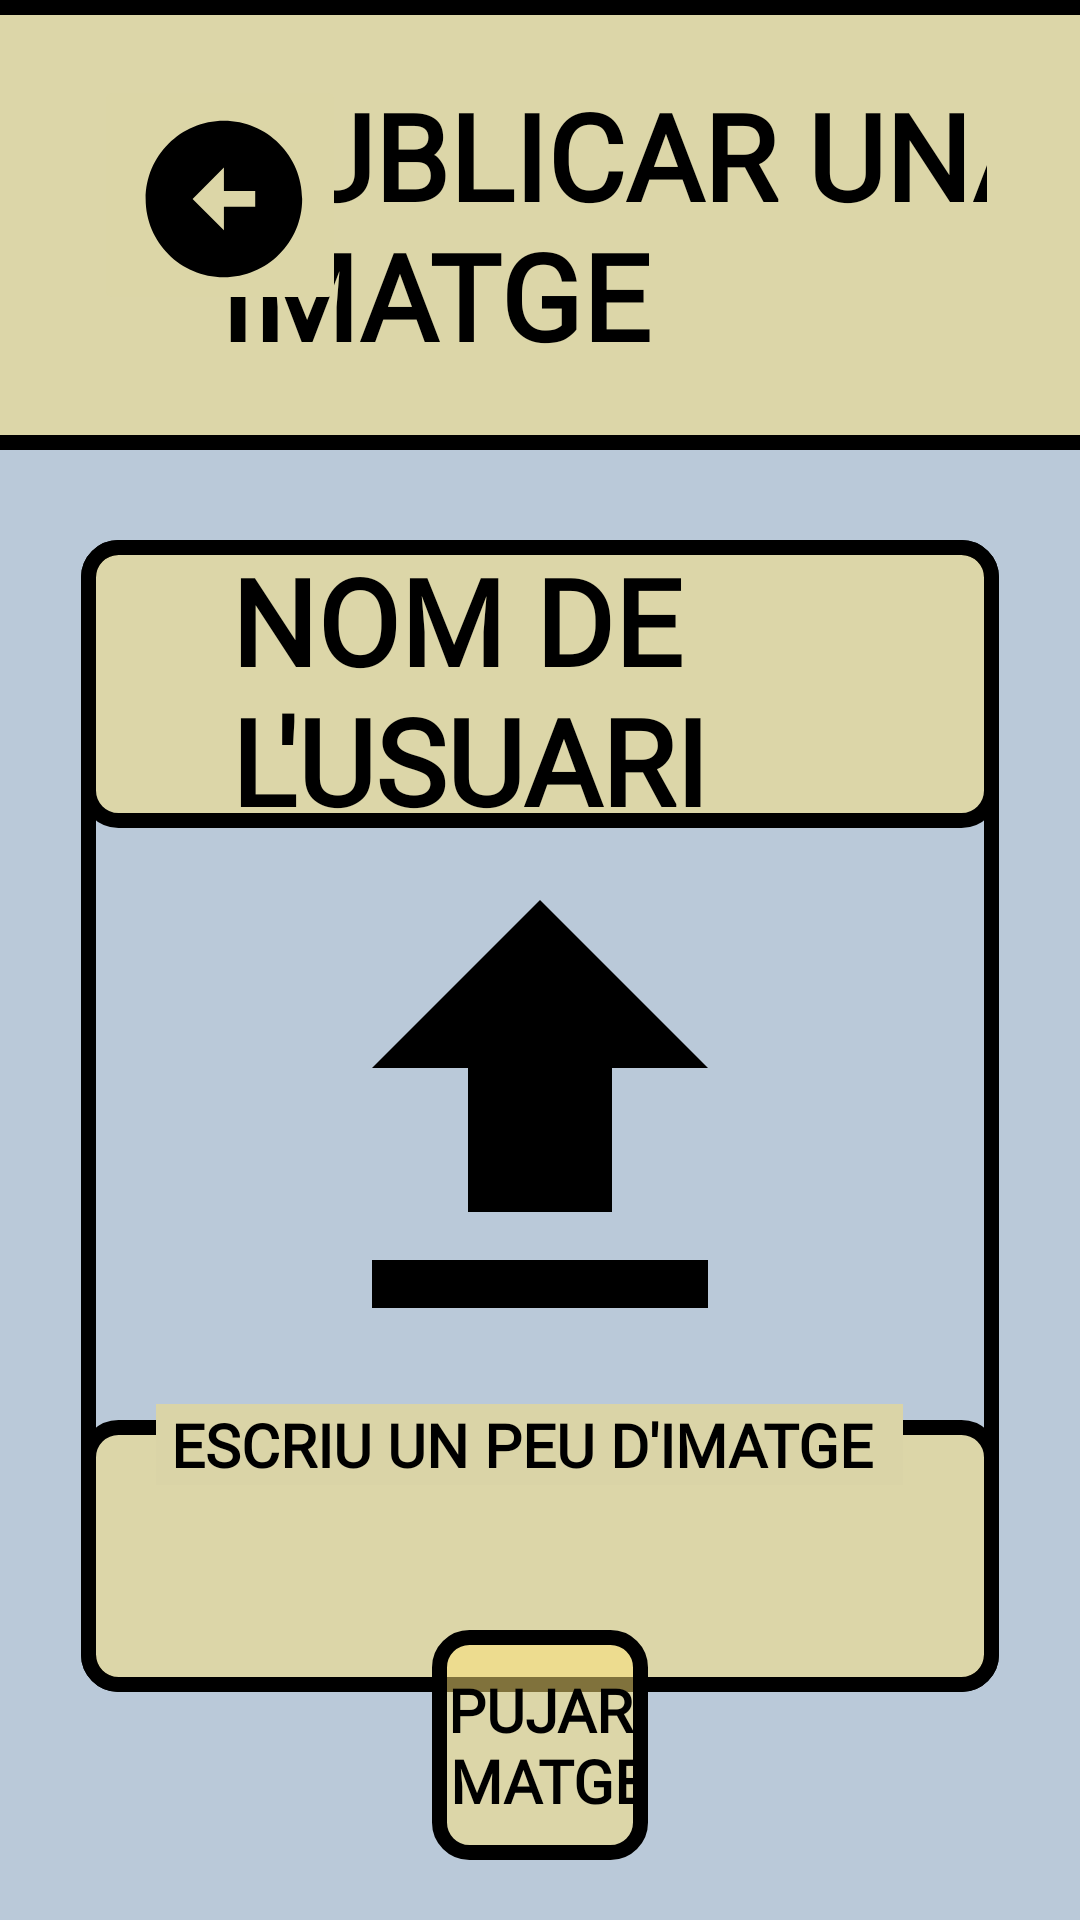

Locate icon controls on the screen. Image size 1080*1920, boxes as (x1, y1, x2, y2).
arrow circle left: (145, 120, 303, 278)
